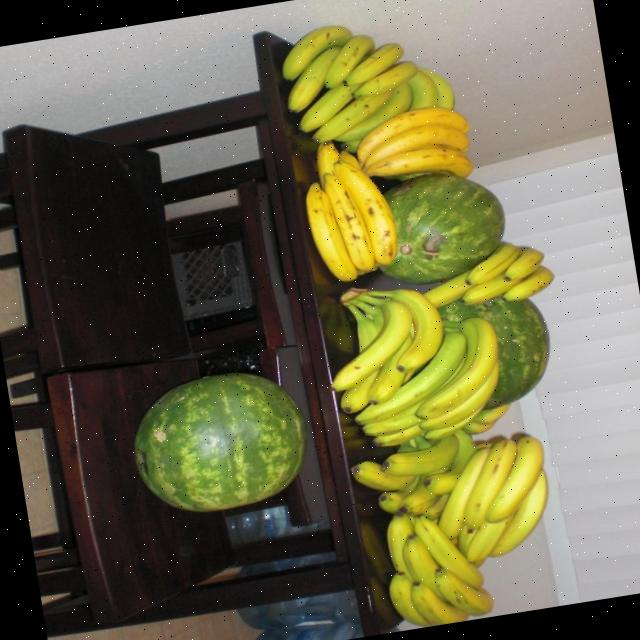banana: (333, 164, 396, 266), (303, 183, 356, 282), (363, 148, 473, 179)
